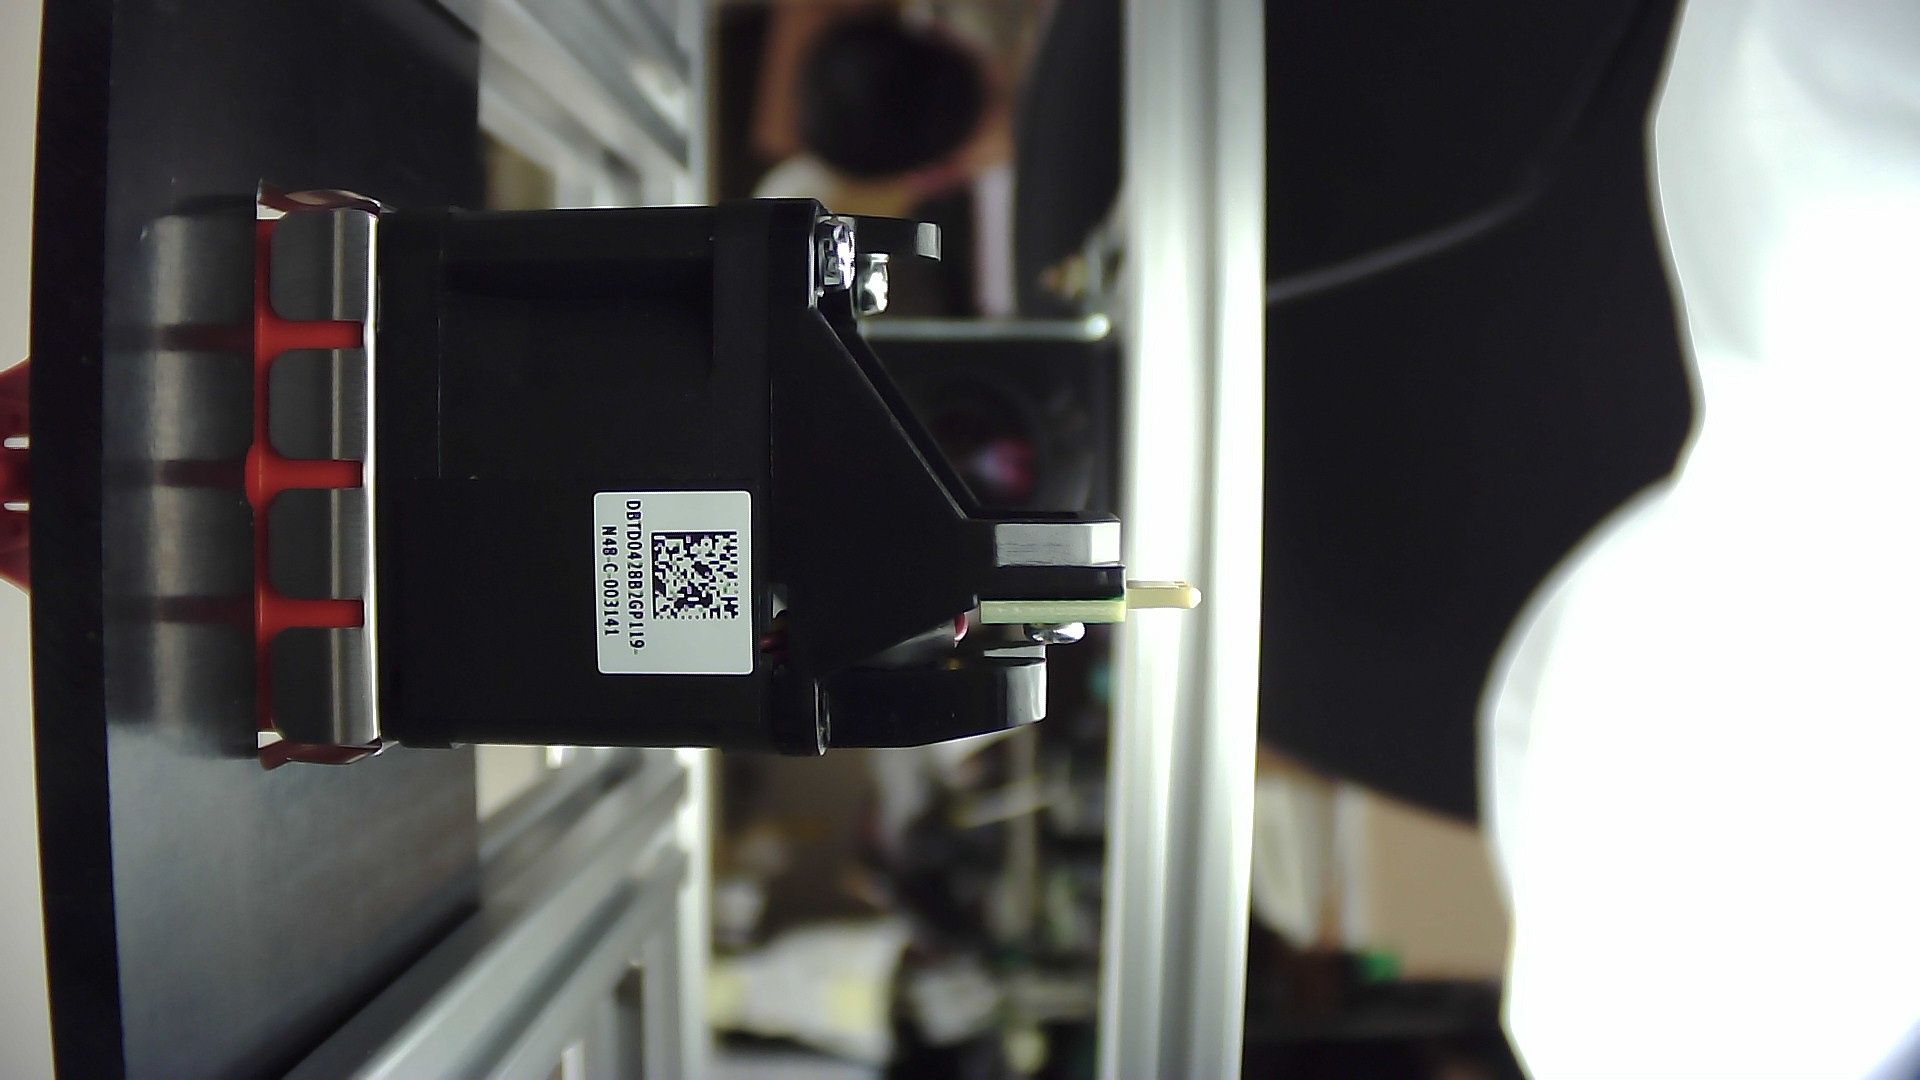8_0: (196, 123, 1251, 862)
